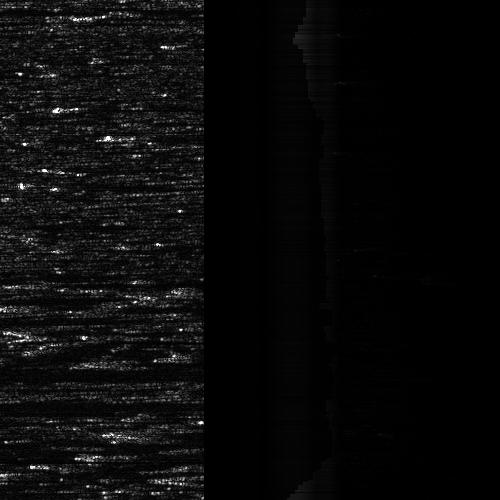rock: (35, 161, 76, 170)
shadow: (56, 161, 223, 170), (0, 5, 136, 14), (0, 70, 48, 77), (0, 18, 15, 23)
